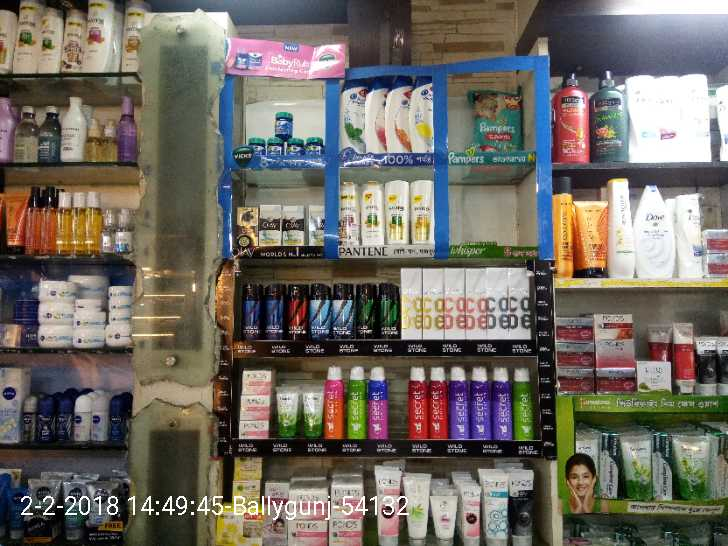vicks: (248, 109, 325, 157)
